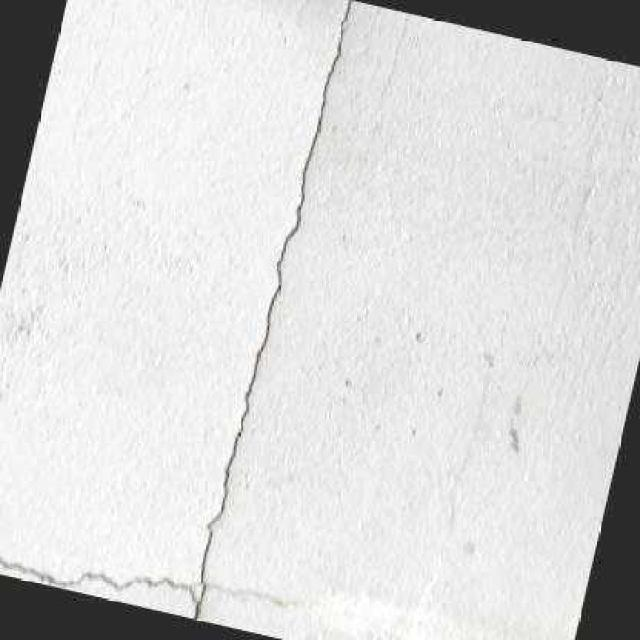D00: (0, 0, 351, 620)
